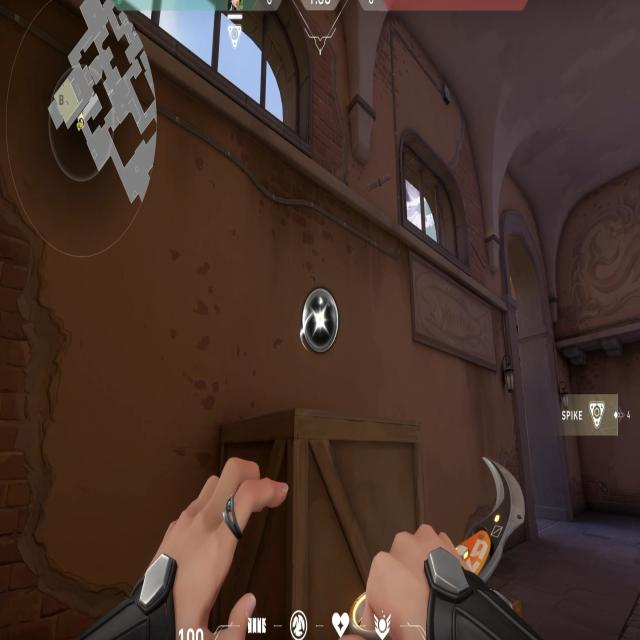B_Main_Wallbang: (216, 284, 425, 640)
Throwables: (90, 0, 316, 154), (394, 116, 477, 276)
